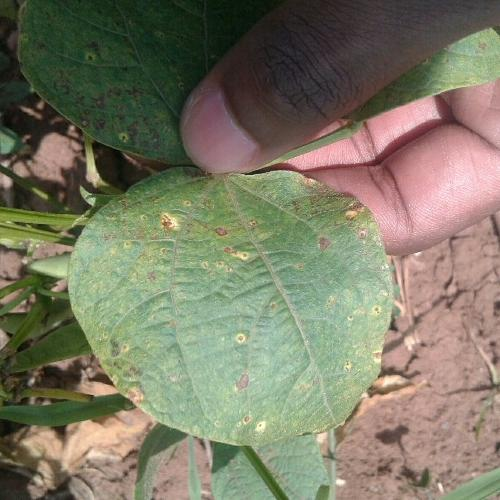hawar: (126, 190, 258, 280), (284, 172, 383, 256), (88, 318, 163, 404), (334, 296, 381, 375), (202, 403, 288, 438), (220, 366, 258, 390)
